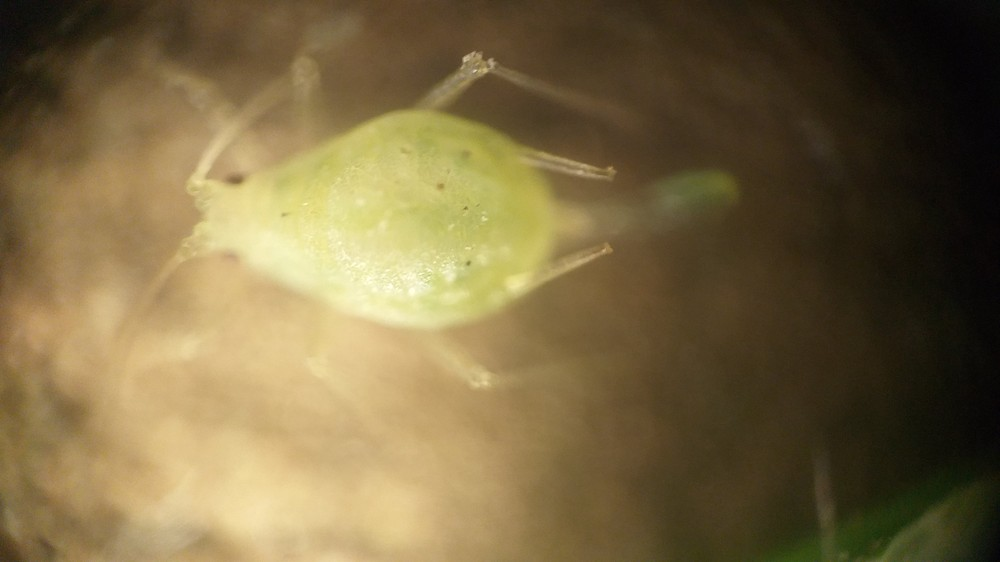Pulgon: (123, 45, 711, 431)
